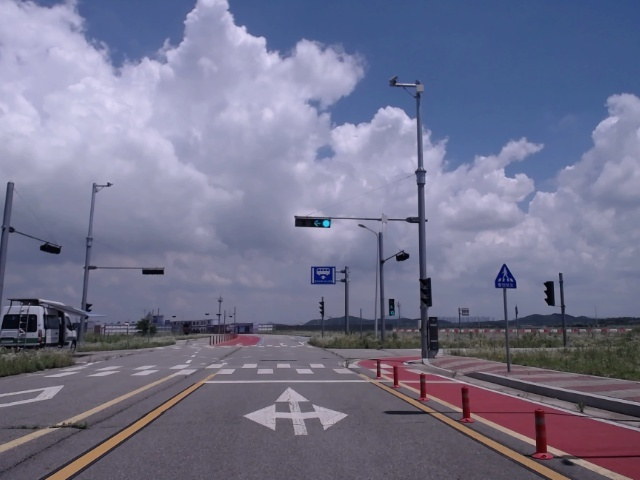all_green_4: (298, 214, 334, 229)
